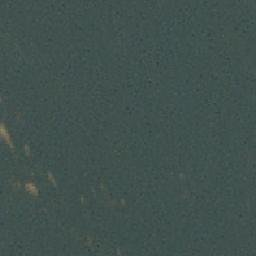debris: (1, 127, 14, 152), (25, 180, 39, 197)
